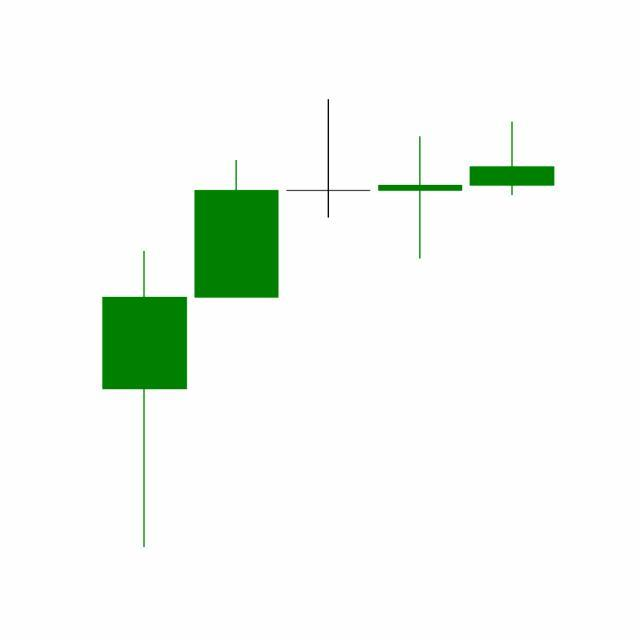Spinning Top: (374, 135, 468, 261)
